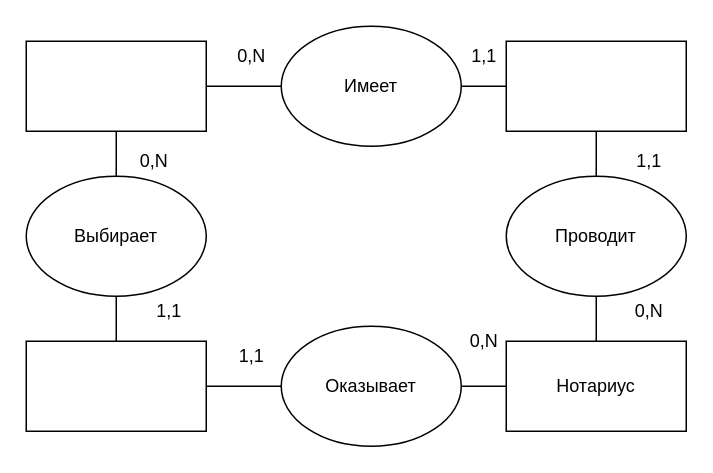
The diagram is 713 pixels wide and 473 high, and some of its shapes have lost their labels. The box of each missing label's shape, as (x1, y1, x2, y2) in pixels:
Клиент: (25, 40, 206, 131)
Приём: (505, 40, 686, 131)
Услугу: (25, 340, 206, 431)
